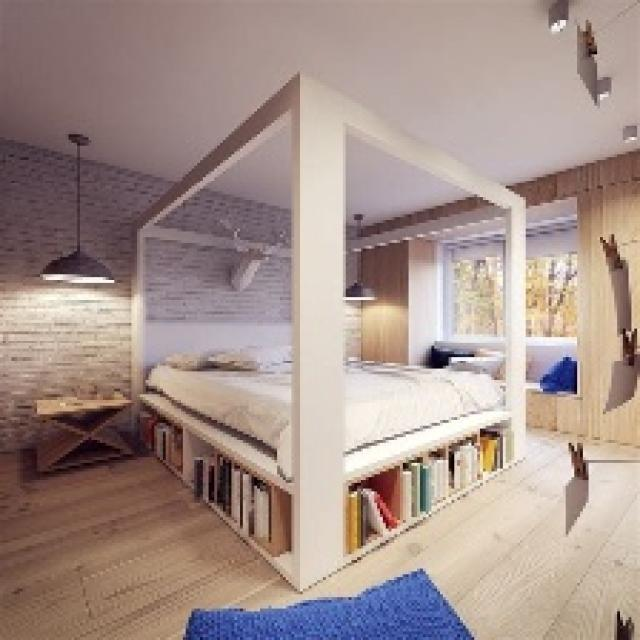Bed: (128, 69, 526, 592)
